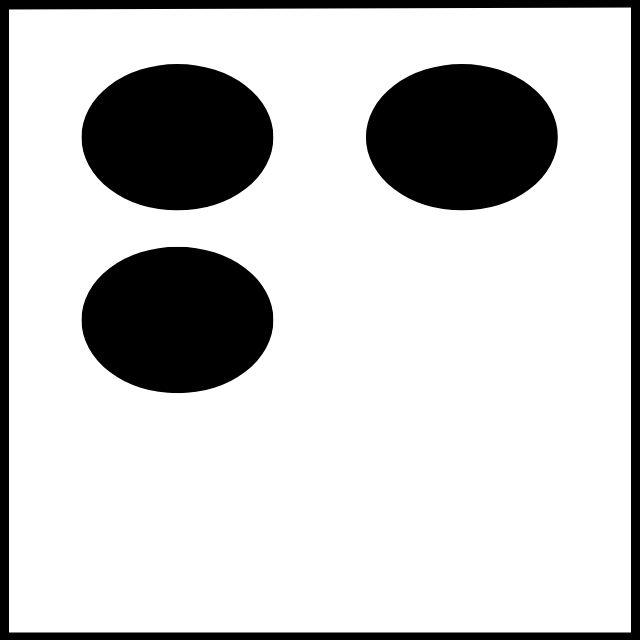paano: (79, 63, 560, 584)
